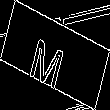M_N: (34, 23, 76, 87)
